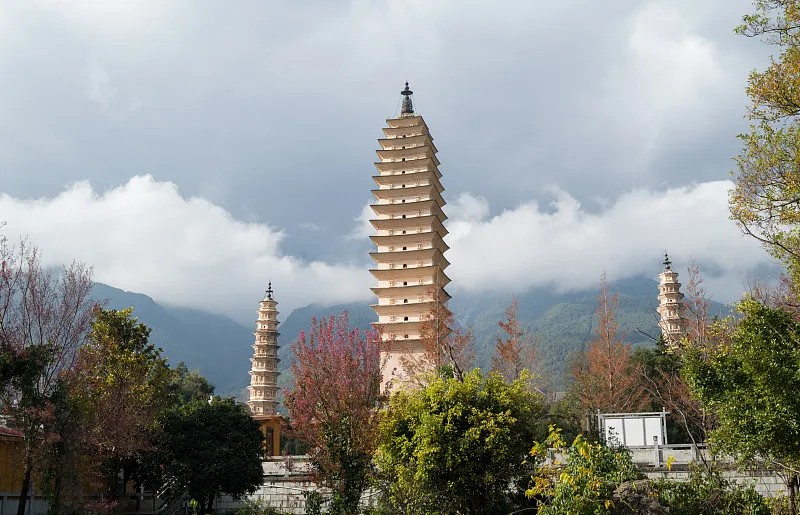ThreePagoda: (369, 81, 453, 397)
